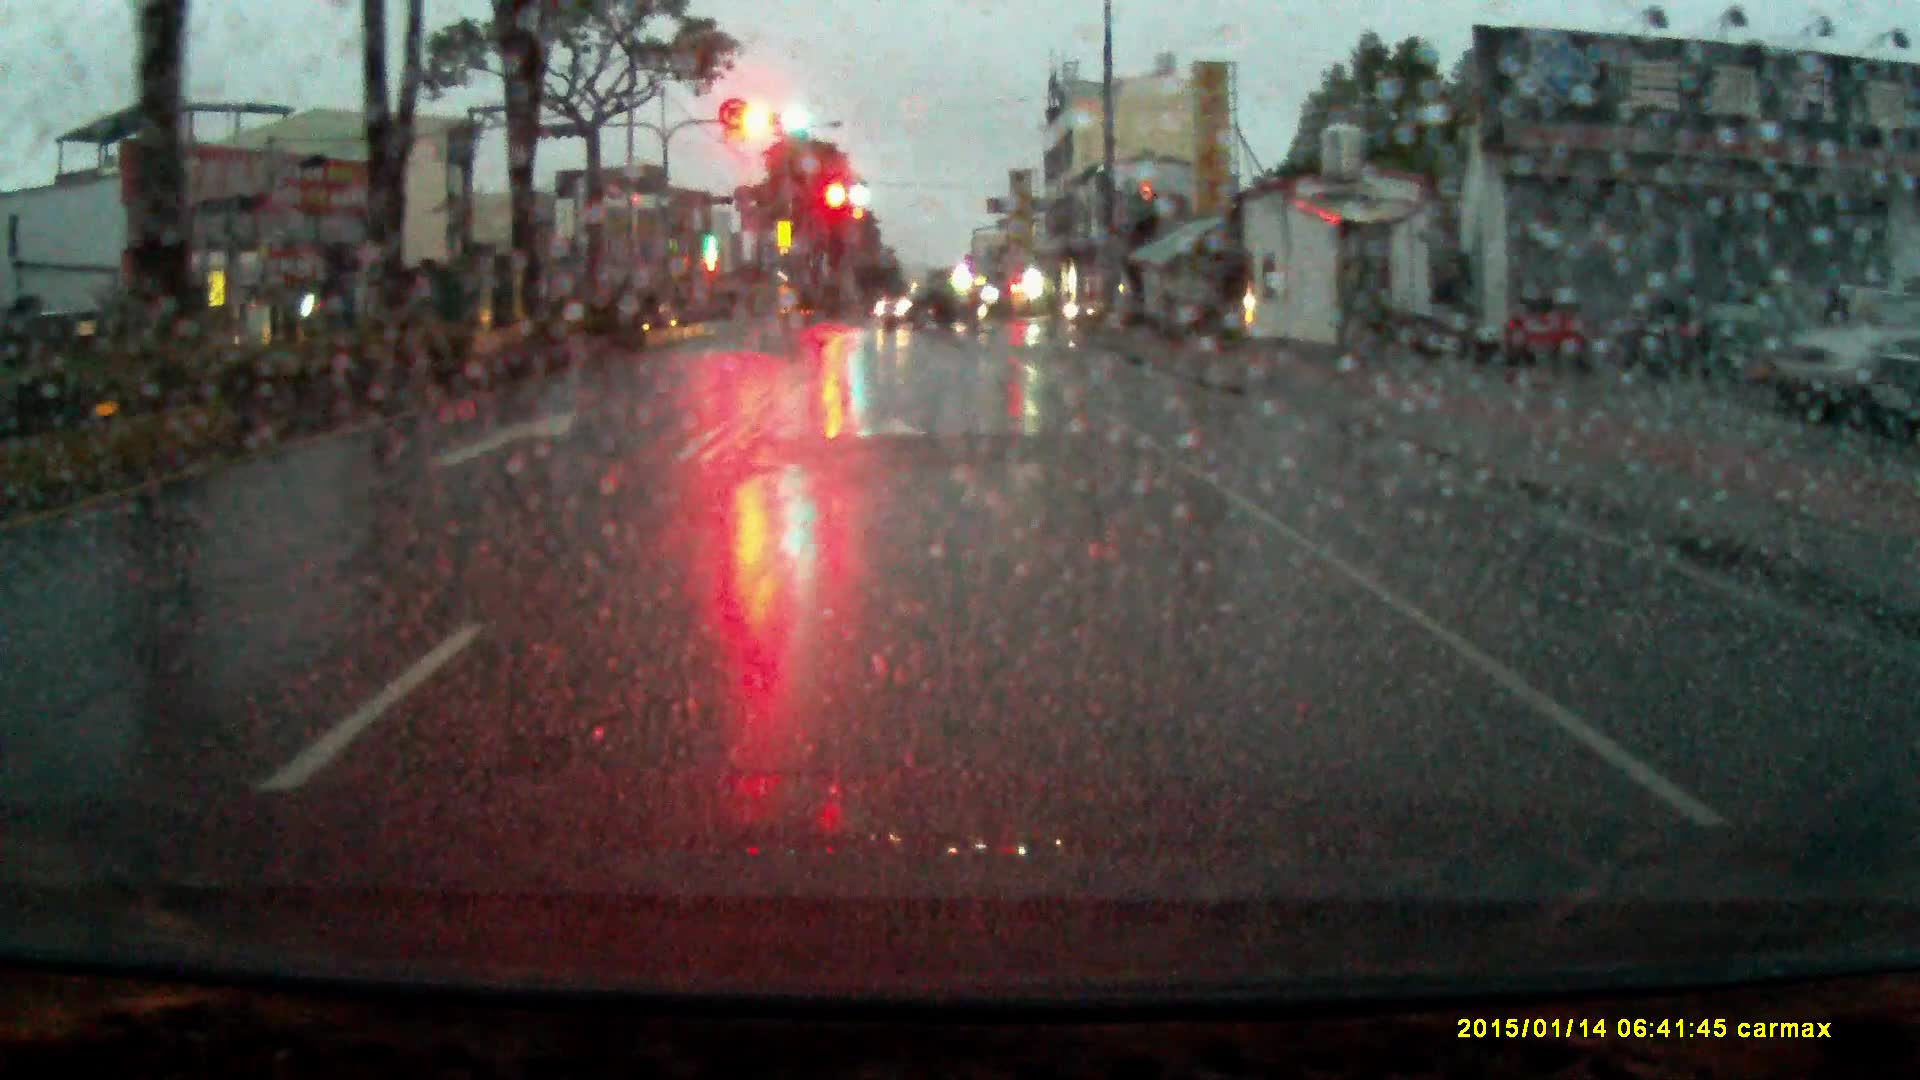vehicle: (876, 278, 981, 339)
